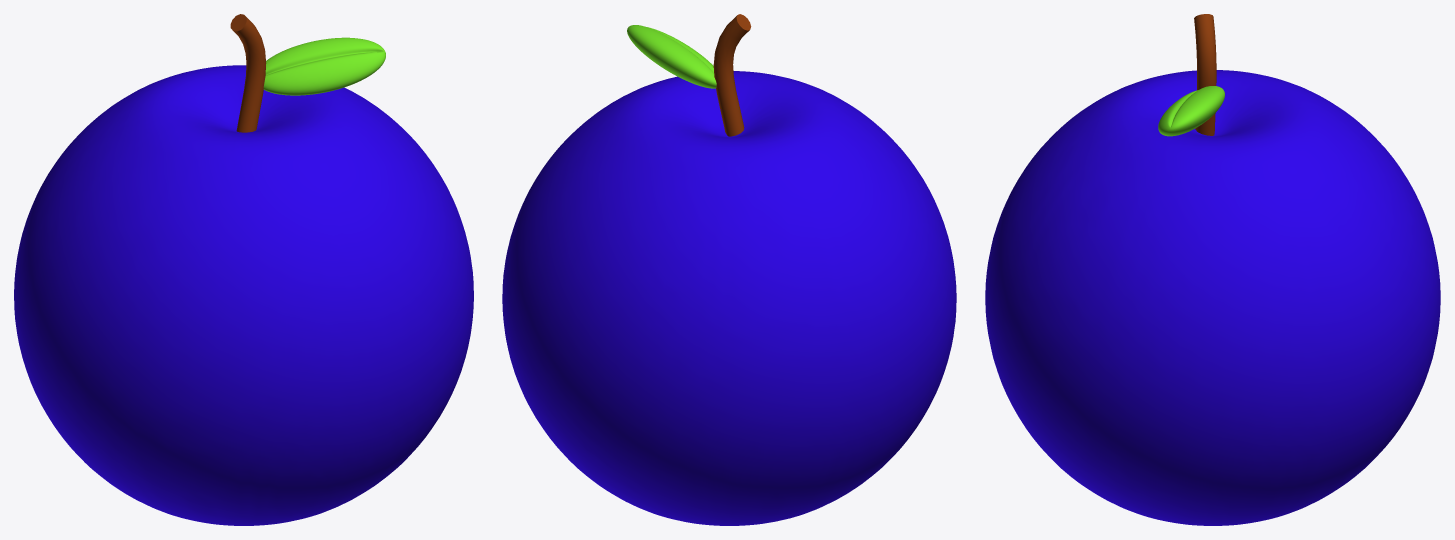
The model's file is ModelApple_blue.glb.
3 renders of one model, left to right at view 1: azimuth 30°, elevation 25°; view 2: azimuth 150°, elevation 25°; view 3: azimuth 270°, elevation 25°, orthographic.
Visible parts, largest first — view 1: Sphere.008, Sphere.009, BezierCurve.004; view 2: Sphere.008, Sphere.009, BezierCurve.004; view 3: Sphere.008, Sphere.009, BezierCurve.004.
Part boxes in pixels (bbox=[...]): Sphere.008: bbox=[14, 65, 473, 525]; Sphere.009: bbox=[263, 37, 385, 95]; BezierCurve.004: bbox=[230, 14, 266, 132]; Sphere.008: bbox=[502, 71, 956, 525]; Sphere.009: bbox=[627, 25, 716, 88]; BezierCurve.004: bbox=[713, 14, 751, 136]; Sphere.008: bbox=[985, 70, 1440, 525]; Sphere.009: bbox=[1158, 86, 1224, 136]; BezierCurve.004: bbox=[1194, 14, 1216, 135].
Size of the model in its own units: 0.2359 by 0.2687 by 0.2359.
